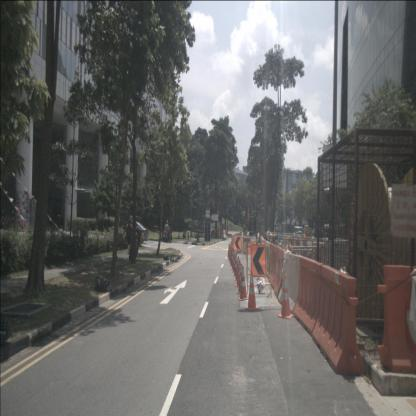human-pedestrian-adult: (126, 219, 133, 254)
movable_object-barrier: (312, 264, 365, 374), (377, 264, 416, 374), (294, 256, 325, 336), (278, 251, 303, 315), (273, 247, 289, 299), (222, 229, 226, 240)
movable_object-trafficcone: (278, 274, 294, 319), (245, 270, 259, 310), (238, 266, 249, 301), (237, 263, 245, 294), (235, 259, 242, 286), (234, 256, 241, 281), (233, 254, 239, 276), (232, 252, 238, 273), (231, 250, 236, 270), (228, 245, 232, 262), (229, 248, 233, 264), (227, 242, 231, 257), (230, 248, 233, 266), (228, 244, 231, 260)
vehicle-car: (110, 219, 148, 247), (293, 226, 304, 242)
vehicle-motorcycle: (163, 220, 173, 243)
